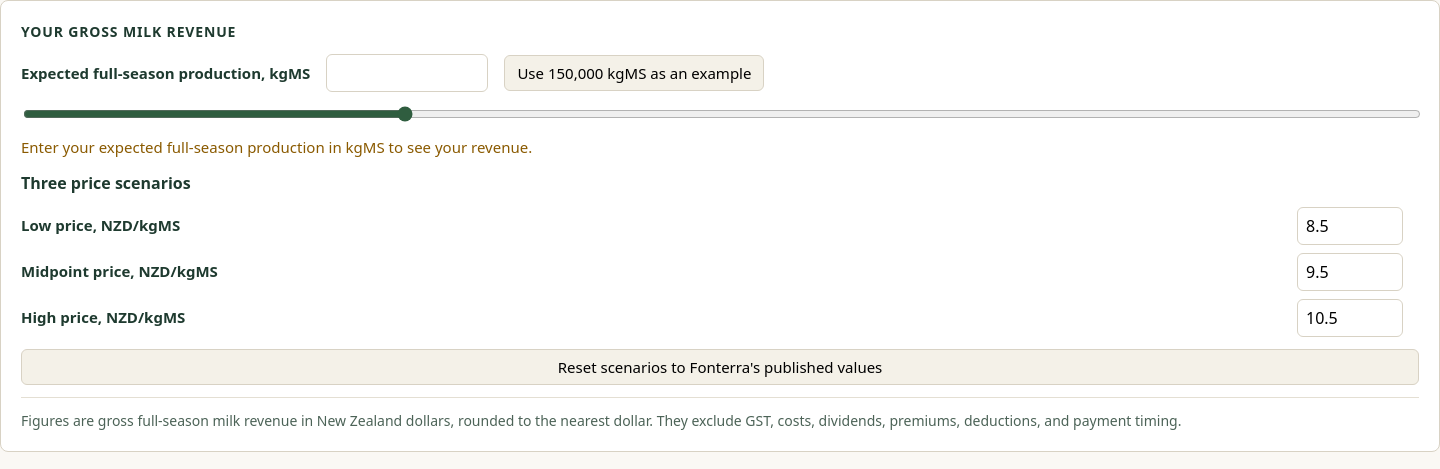
Test: RevenuePanel › guides excessive precision without rounding behind the user's back
The image size is (1440, 469).
Type "150000.125" into the field labelled "Expected full-season production, kgMS". click: (407, 73)
box: [326,54,488,92]
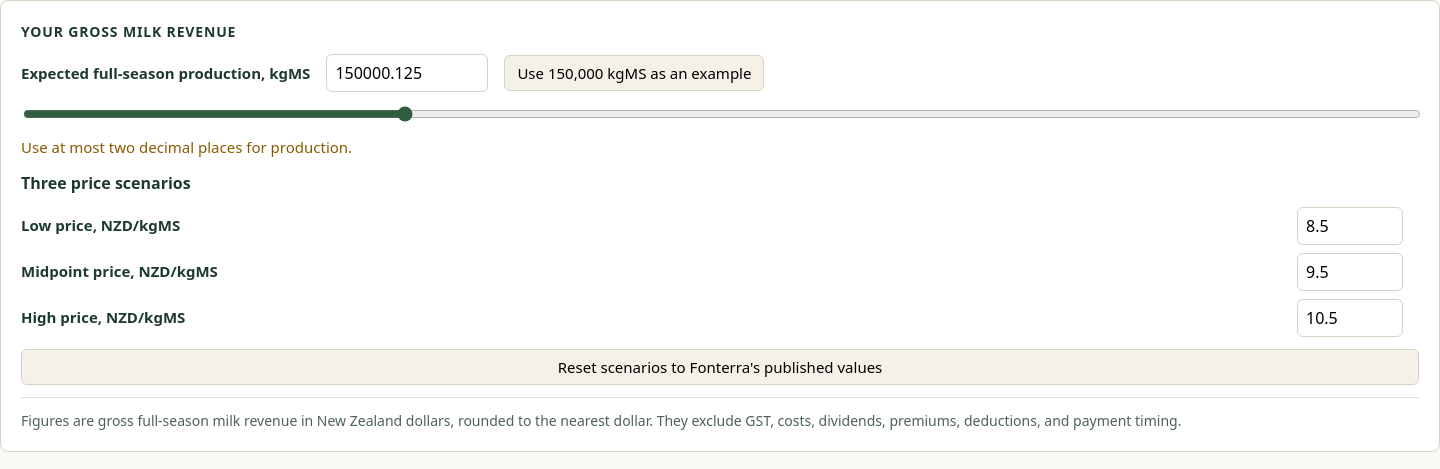
Expected: the text "Use at most two decimal places for production." is shown, [21,137,352,157]
